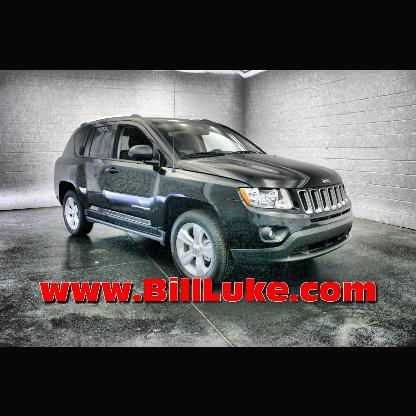Jeep Compass SUV 2012: (55, 114, 354, 278)
